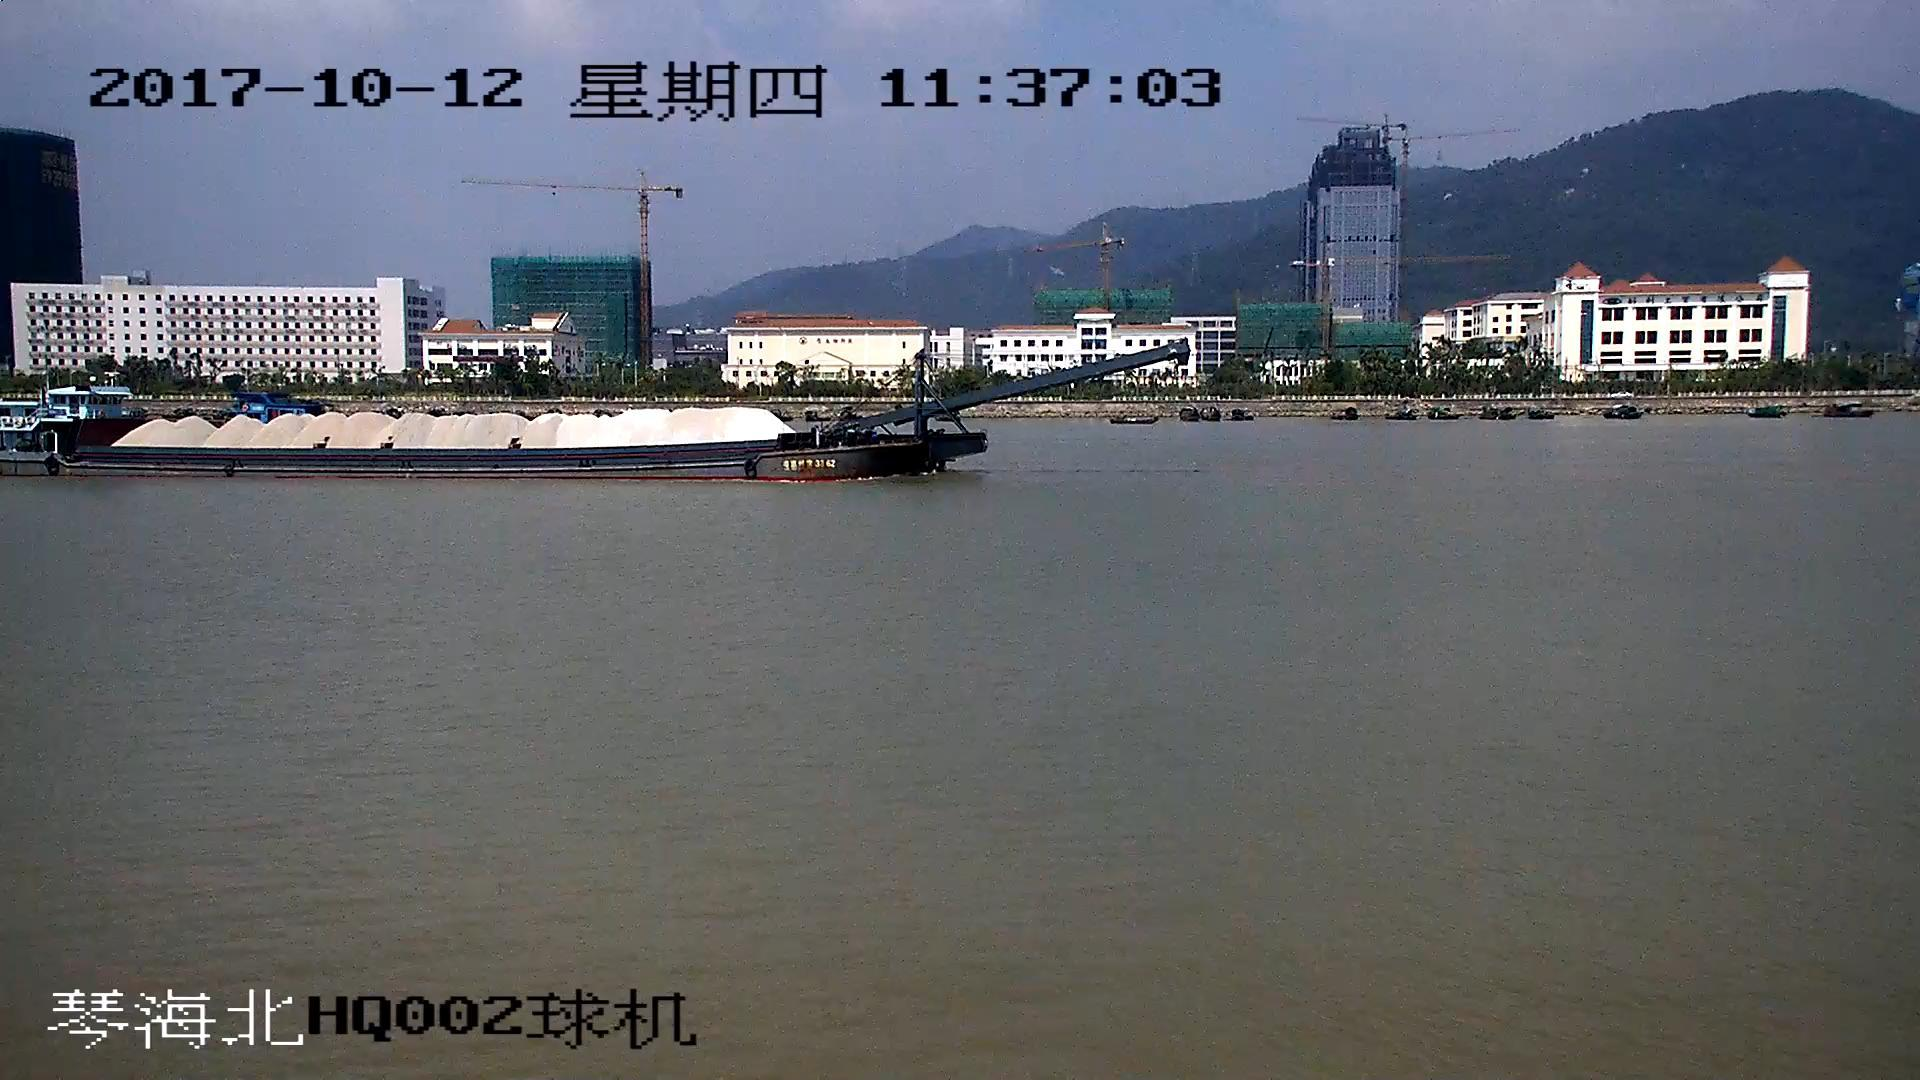Ship: (3, 344, 1185, 477)
